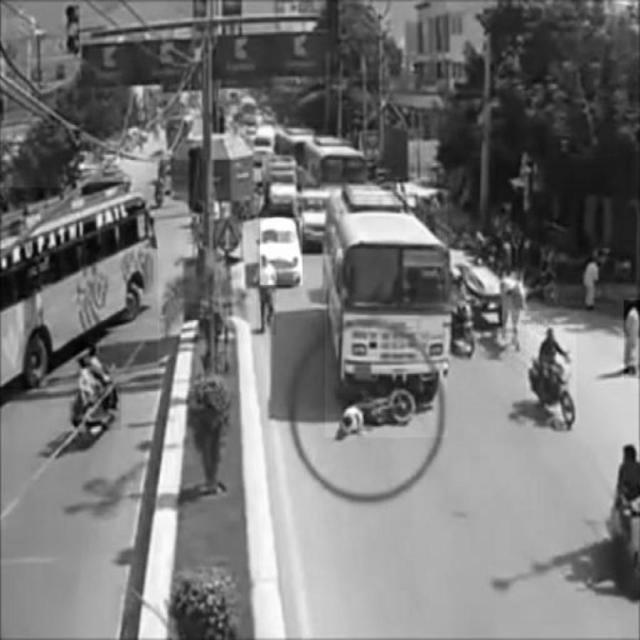person: (256, 252, 276, 335), (624, 300, 640, 378)
vehicle: (1, 188, 158, 389), (324, 189, 448, 437), (526, 325, 576, 427), (74, 340, 121, 430), (260, 218, 304, 285)
